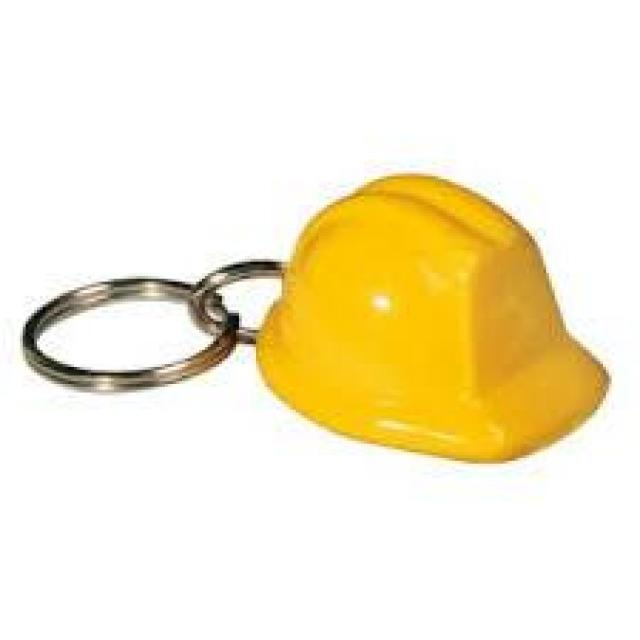Safety-Helmet: (245, 162, 614, 475)
